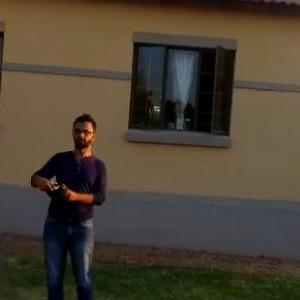follow: (24, 102, 112, 299)
